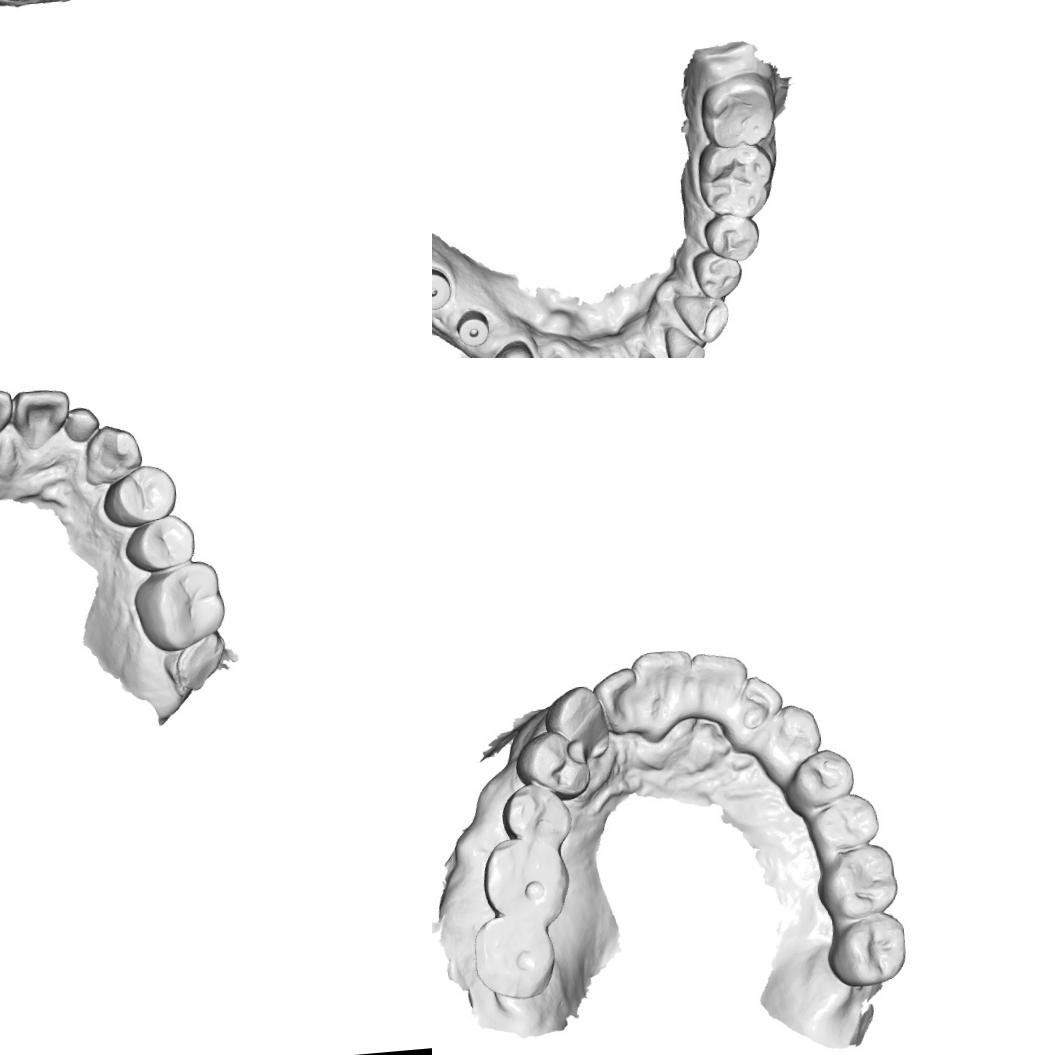canine: (538, 683, 610, 761), (757, 700, 824, 776), (79, 422, 144, 486), (673, 289, 732, 347)
implant: (452, 307, 492, 349), (432, 264, 455, 312)
incisor: (630, 644, 698, 728), (688, 645, 753, 731), (8, 385, 74, 452), (730, 672, 786, 739), (593, 666, 642, 737), (661, 323, 709, 358), (61, 403, 101, 442), (0, 381, 15, 451)
molar: (128, 558, 228, 654), (467, 911, 562, 1005), (480, 836, 572, 924), (810, 840, 903, 920), (694, 134, 778, 222), (696, 68, 780, 151), (824, 912, 912, 990)
premolar: (512, 728, 590, 804), (98, 462, 180, 530), (498, 782, 573, 850), (121, 512, 197, 574), (810, 788, 881, 854), (787, 745, 856, 809), (701, 209, 762, 265), (688, 246, 744, 302), (483, 337, 539, 358)
